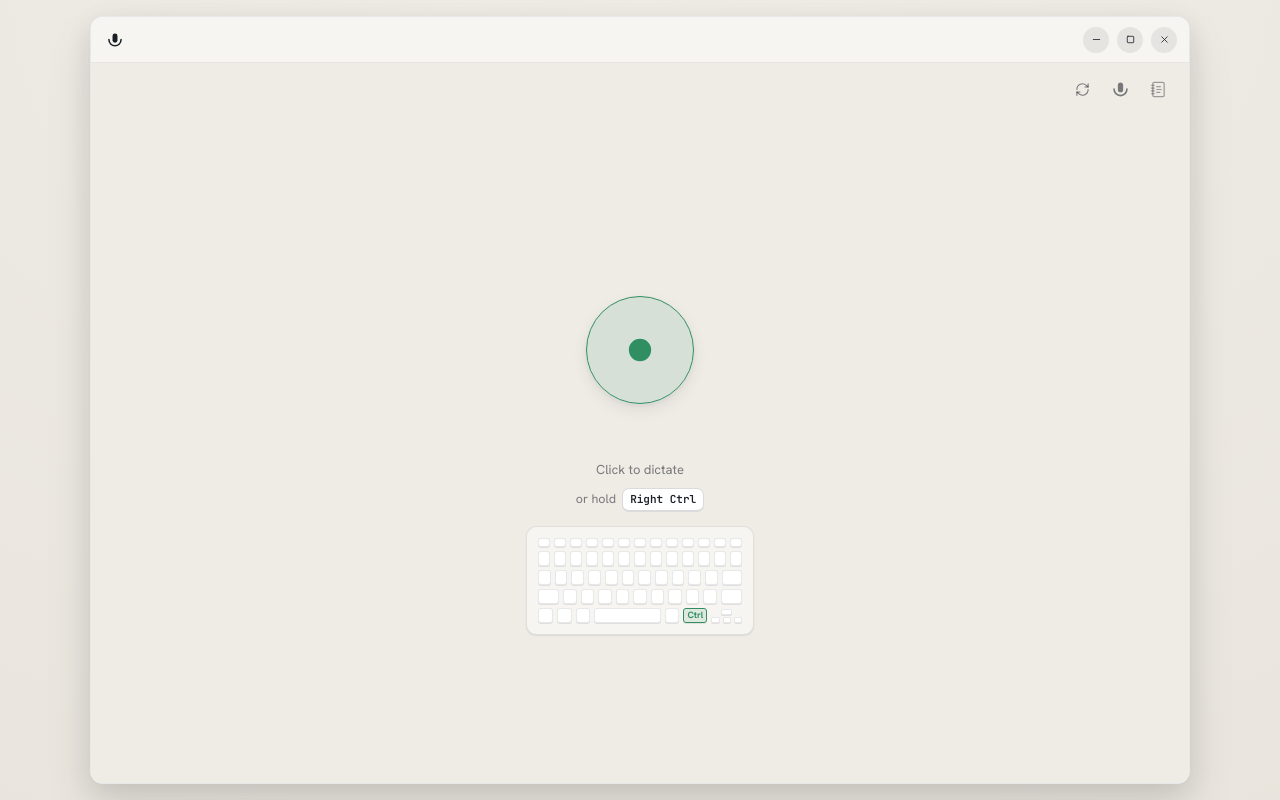
Test: Quiet Console app (mock mode) › re-adopts active package progress from an explicit check
The image size is (1280, 800).
What coordinates should you click on to do the following:
click the button named "Check for updates"
I would click on:
 (1082, 89)
Its box is [1067,75,1097,103].
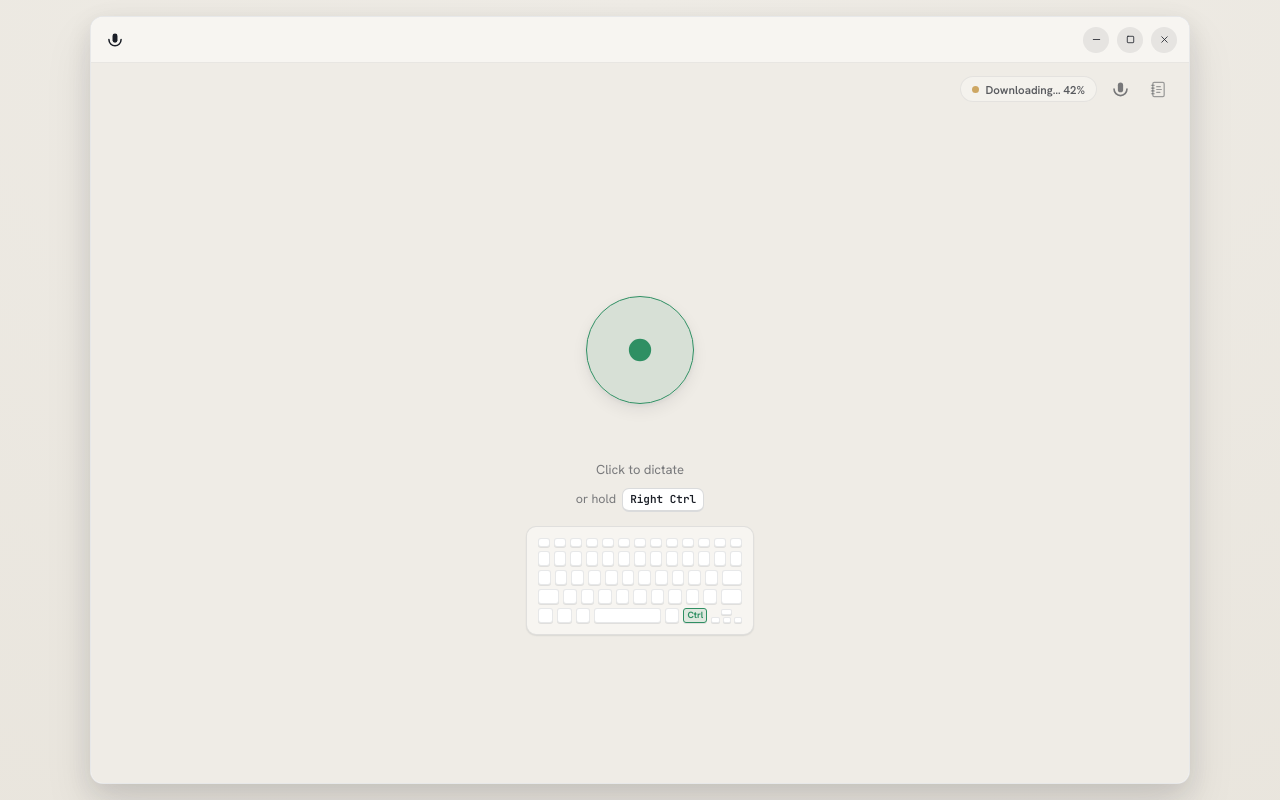
Expected: the button "Downloading… 42%" is shown, [960,76,1097,102]
